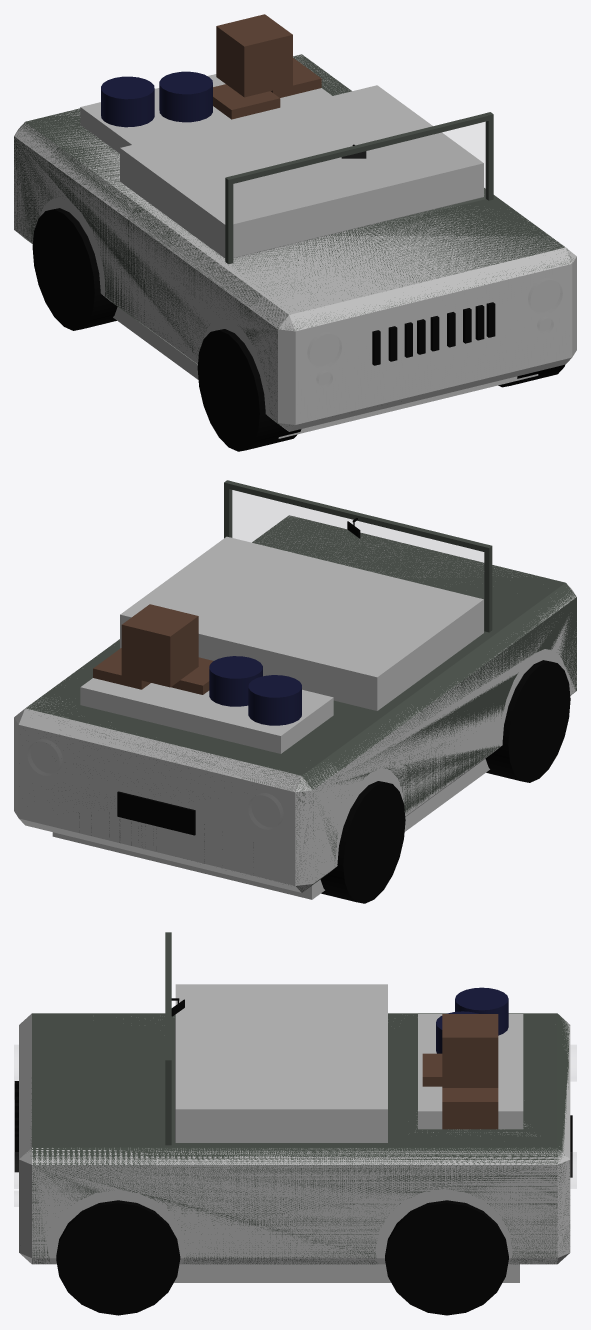
The model's file is CarModelG.fbx.
3 renders of one model, top to bottom at view 1: azimuth 30°, elevation 25°; view 2: azimuth 150°, elevation 25°; view 3: azimuth 270°, elevation 25°, orthographic.
Visible parts, largest first — view 1: pCube1, pCube3, polySurface1, pCube8, pCylinder9, pCylinder8, pCube7, pCube4, pCylinder10, pCylinder11, pCube2, pCube11 (+4 smaller); view 2: pCube1, polySurface1, pCube3, pCube8, pCube4, pCylinder9, pCylinder8, pCube7, pCube2, pCylinder11, pCube11, pCylinder10 (+4 smaller); view 3: polySurface1, pCube1, pCube3, pCylinder7, pCylinder6, pCube4, pCube2, pCube7, pCube5, pCylinder11, pCube11, pCube6 (+1 smaller).
Part boxes in pixels (bbox=[...]): pCube1: bbox=[14, 55, 576, 431]; pCube3: bbox=[120, 85, 483, 258]; polySurface1: bbox=[14, 54, 573, 426]; pCube8: bbox=[234, 122, 485, 259]; pCylinder9: bbox=[197, 329, 301, 451]; pCylinder8: bbox=[32, 208, 117, 330]; pCube7: bbox=[216, 14, 292, 97]; pCube4: bbox=[80, 74, 331, 153]; pCylinder10: bbox=[159, 71, 212, 122]; pCylinder11: bbox=[101, 76, 154, 127]; pCube2: bbox=[113, 307, 538, 438]; pCube11: bbox=[226, 113, 488, 183]; pCube1: bbox=[14, 515, 576, 892]; polySurface1: bbox=[25, 515, 576, 892]; pCube3: bbox=[120, 536, 483, 710]; pCube8: bbox=[230, 490, 483, 598]; pCube4: bbox=[80, 678, 333, 753]; pCylinder9: bbox=[485, 660, 570, 782]; pCylinder8: bbox=[320, 781, 405, 903]; pCube7: bbox=[121, 604, 198, 687]; pCube2: bbox=[52, 758, 489, 899]; pCylinder11: bbox=[248, 675, 301, 725]; pCube11: bbox=[224, 481, 491, 552]; pCylinder10: bbox=[209, 656, 262, 706]; polySurface1: bbox=[30, 1013, 569, 1264]; pCube1: bbox=[19, 1013, 570, 1264]; pCube3: bbox=[175, 984, 387, 1142]; pCylinder7: bbox=[56, 1200, 180, 1315]; pCylinder6: bbox=[385, 1200, 508, 1315]; pCube4: bbox=[418, 1014, 523, 1129]; pCube2: bbox=[174, 1264, 519, 1282]; pCube7: bbox=[442, 1014, 498, 1087]; pCube5: bbox=[442, 1088, 498, 1129]; pCylinder11: bbox=[455, 987, 508, 1035]; pCube11: bbox=[165, 932, 171, 1057]; pCube6: bbox=[422, 1053, 442, 1086].
Size of the model in its own units: 13.29 by 10.04 by 20.95.
